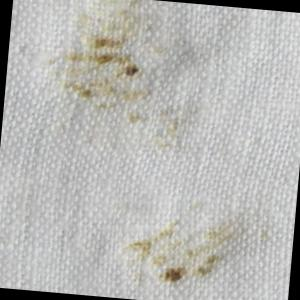Oil Stain: (32, 1, 205, 159), (116, 191, 278, 300)
